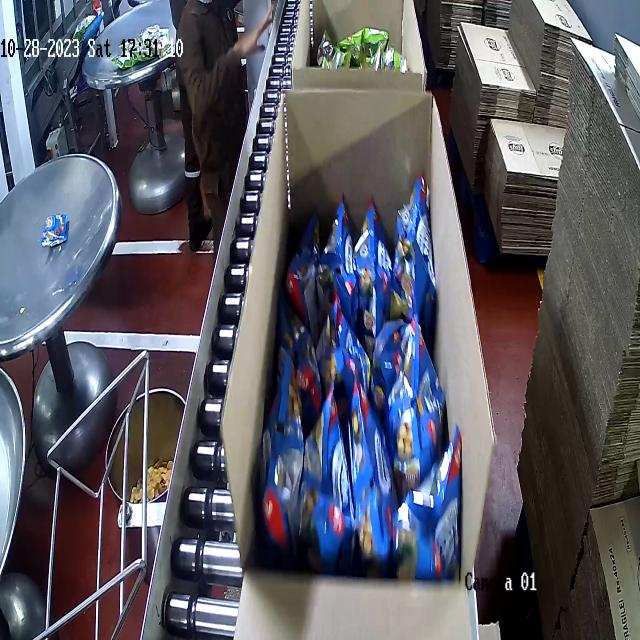PAPRIKA: (274, 179, 458, 576)
